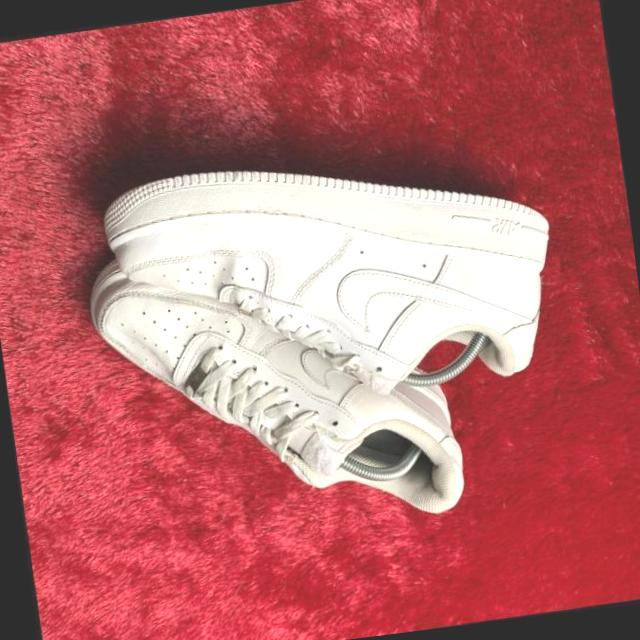nike_fake_airforce: (92, 116, 578, 424), (79, 221, 472, 554)
